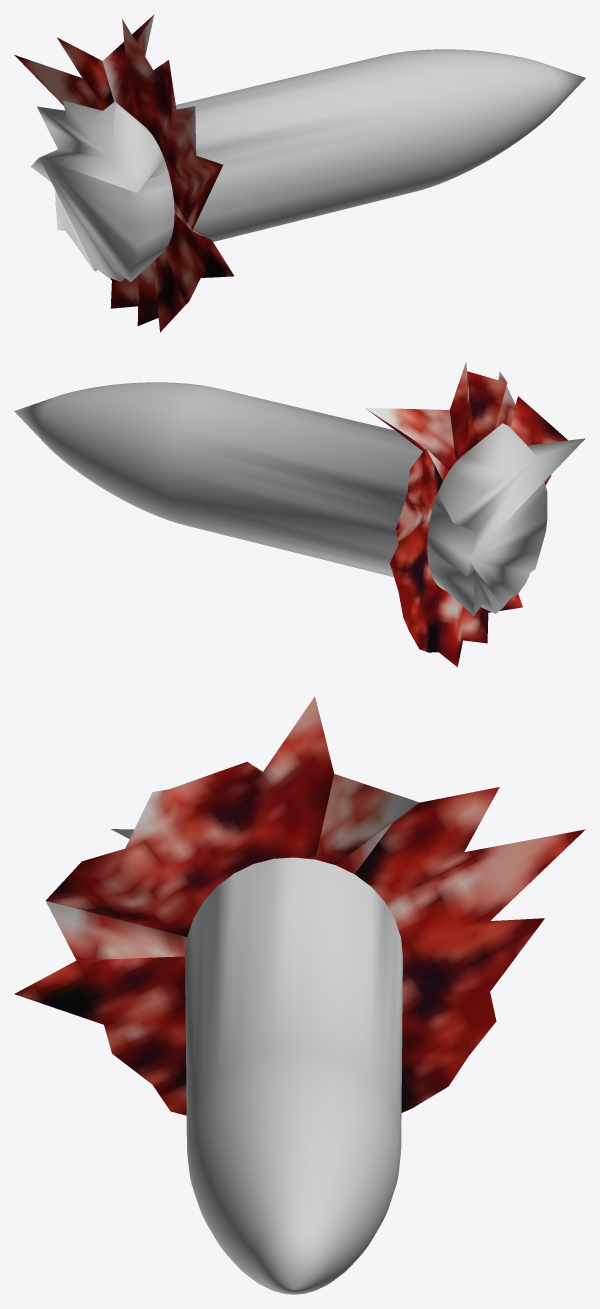
The model's file is mermi.fbx.
3 views of the same model, one above another, from view 1: azimuth 30°, elevation 25°; view 2: azimuth 150°, elevation 25°; view 3: azimuth 270°, elevation 25° (orthographic). The views are drawn at different scales.
Visible parts, largest first — view 1: mermi; view 2: mermi; view 3: mermi.
Boxes of the visible parts, left/top/right/bottom form: mermi: left=14, top=14, right=585, bottom=332; mermi: left=14, top=361, right=585, bottom=666; mermi: left=14, top=696, right=585, bottom=1294.
Size of the model in its own units: 595 by 332 by 380.
